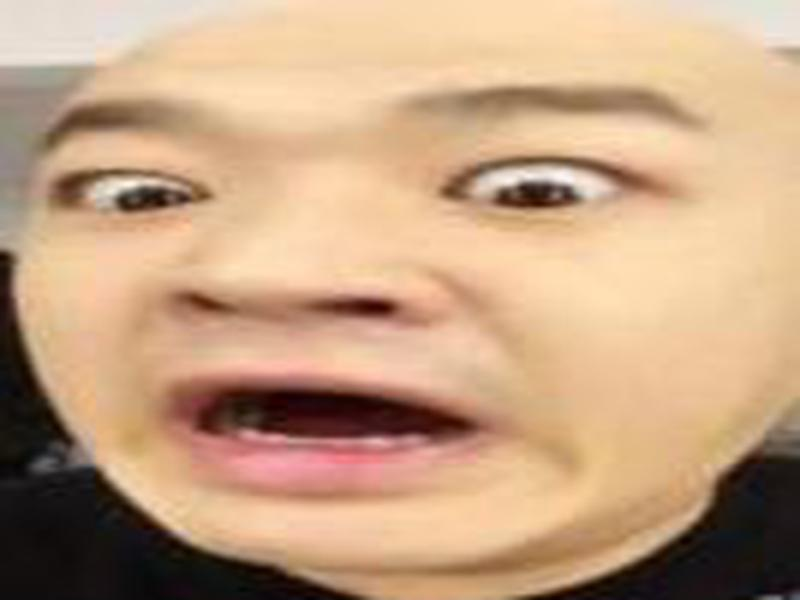without_mask: (16, 16, 793, 576)
